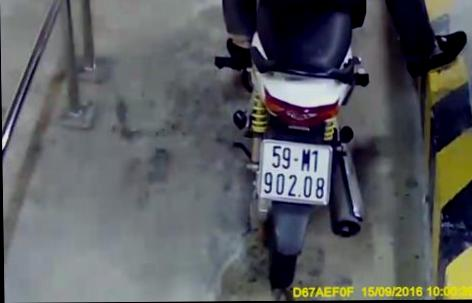License_Plate: (253, 136, 336, 206)
